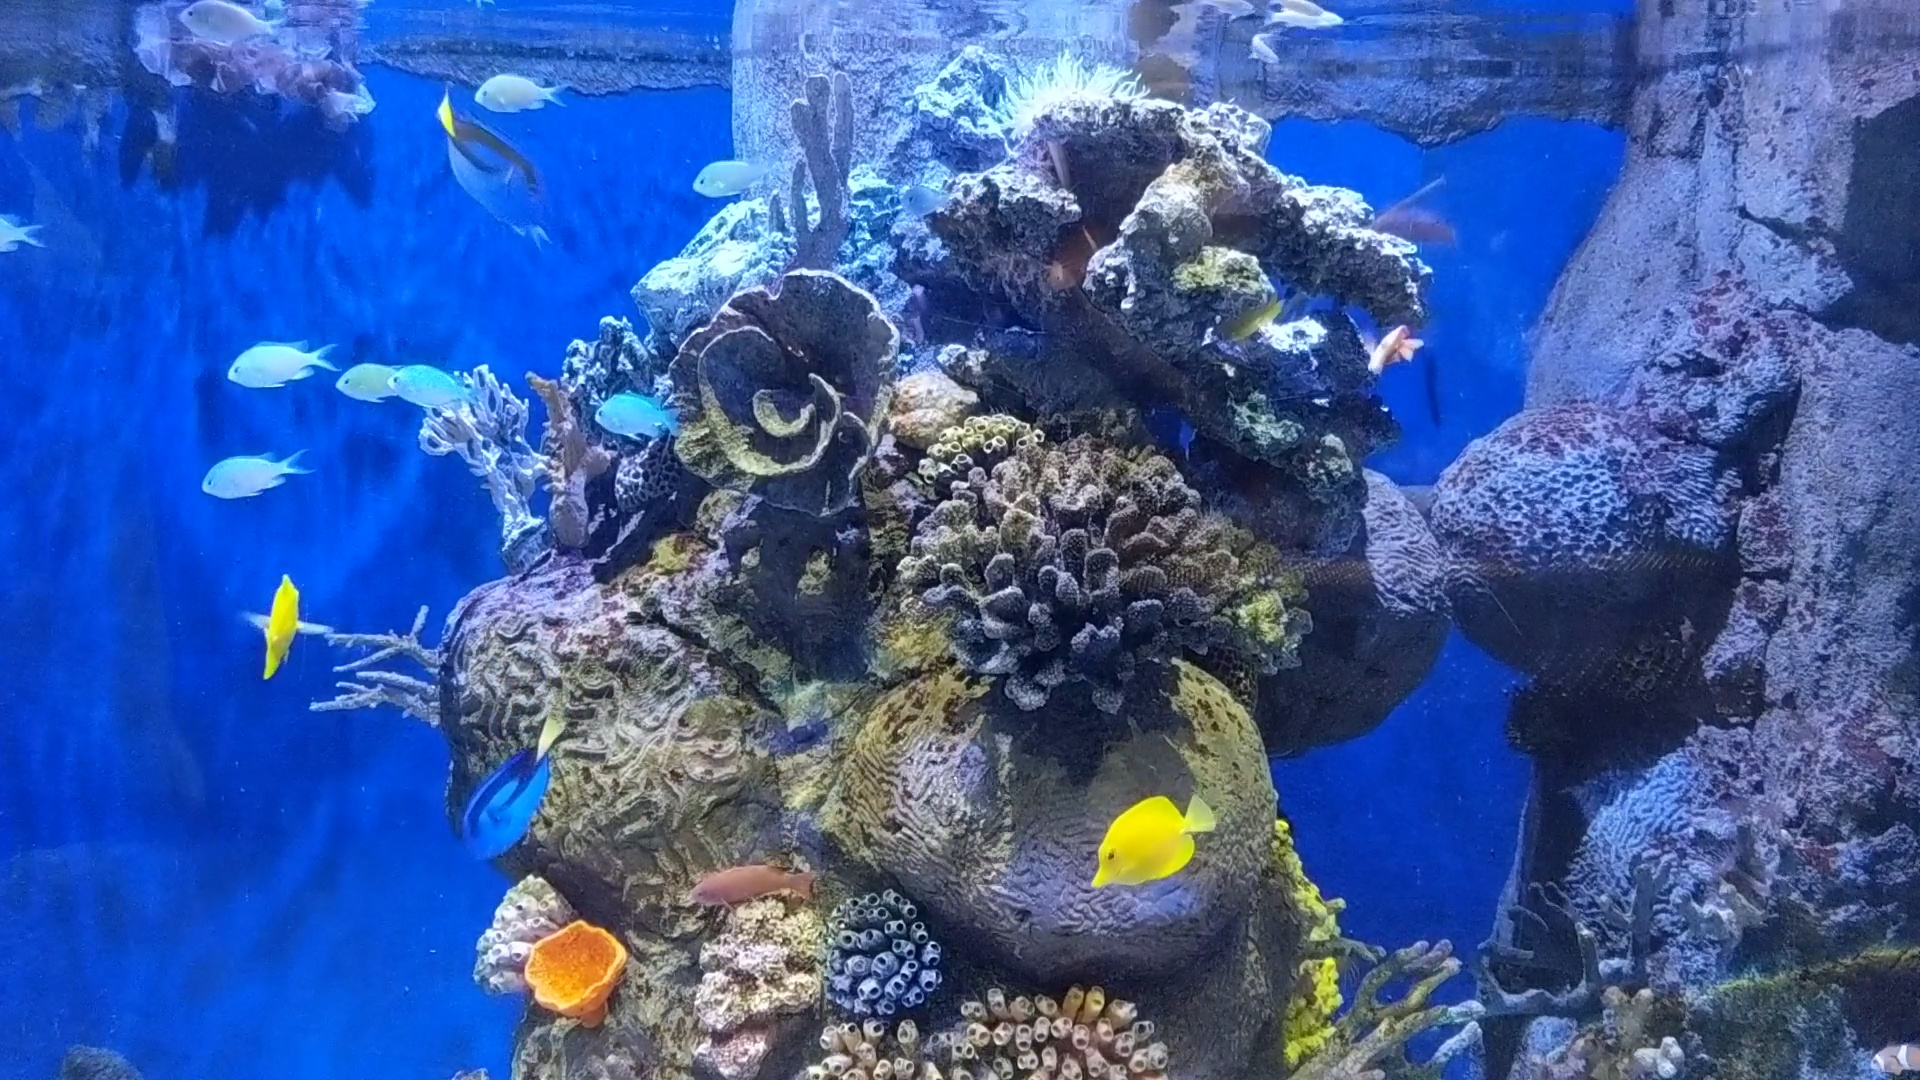blue tang surgeonfish: (426, 79, 558, 257), (464, 717, 585, 862)
damselfish: (178, 438, 320, 510), (218, 320, 342, 394), (582, 380, 680, 440), (388, 360, 488, 411), (688, 149, 781, 199), (328, 352, 410, 407), (476, 65, 560, 113)
pink fish: (1348, 291, 1425, 386)
saddle butterfly fish: (1077, 785, 1211, 895), (244, 576, 320, 676)
